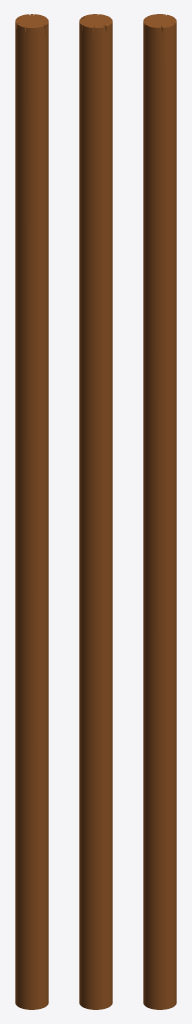
Rendered from Building_Modular_Wood_Support_03.fbx.
The picture shows the model from 3 angles, left to right: view 1: azimuth 90°, elevation 25°; view 2: azimuth 150°, elevation 25°; view 3: azimuth 270°, elevation 25°; orthographic projection.
Parts seen in each view (by area): view 1: Model; view 2: Model; view 3: Model.
Part boxes in pixels (<box>): Model: <box>15,14,48,1009</box>; Model: <box>79,14,112,1009</box>; Model: <box>143,14,176,1009</box>.
Bounding box in the file's own units: 76.7 × 2482 × 76.72.
